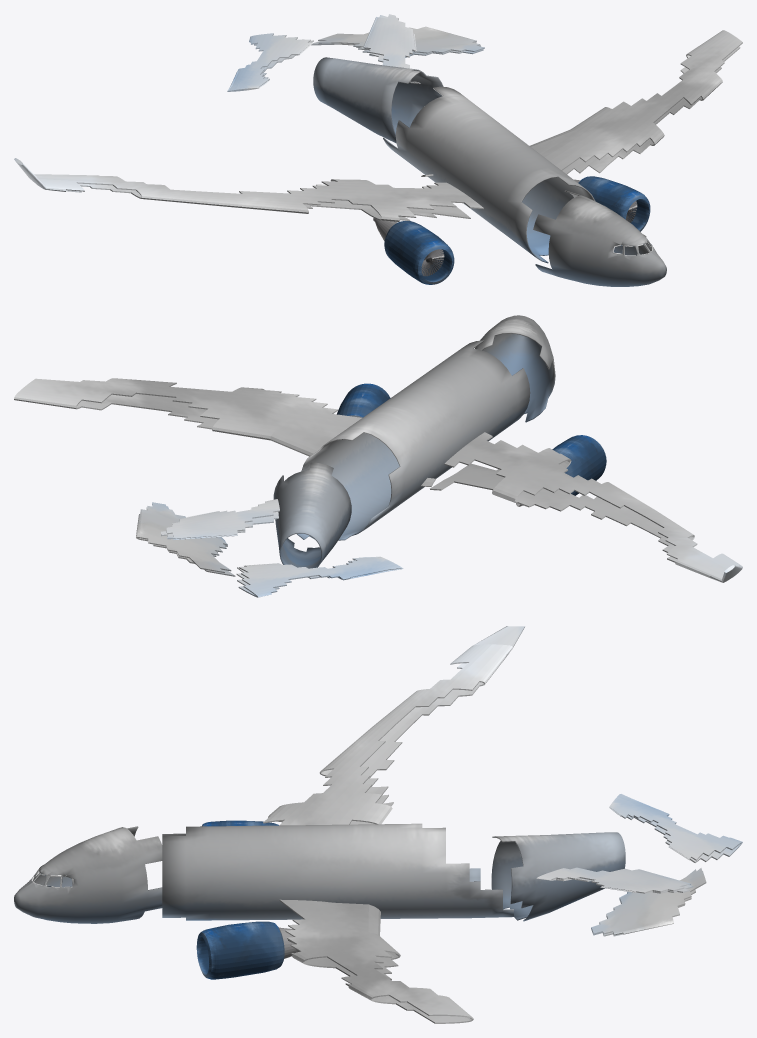
File: PlaneCrashedModelGrouped.fbx
3 renders of one model, top to bottom at view 1: azimuth 30°, elevation 25°; view 2: azimuth 150°, elevation 25°; view 3: azimuth 270°, elevation 25°, orthographic. The views are drawn at different scales.
Parts seen in each view (by area): view 1: Cylinder; view 2: Cylinder; view 3: Cylinder.
Boxes of the visible parts, box(x1,y1,x2,y2) form: Cylinder: box(14, 14, 742, 286); Cylinder: box(14, 315, 742, 597); Cylinder: box(14, 626, 742, 1023).
Bounding box in the file's own units: 5353 × 4476 × 685.
Materials: 5 (5 with a texture image).
